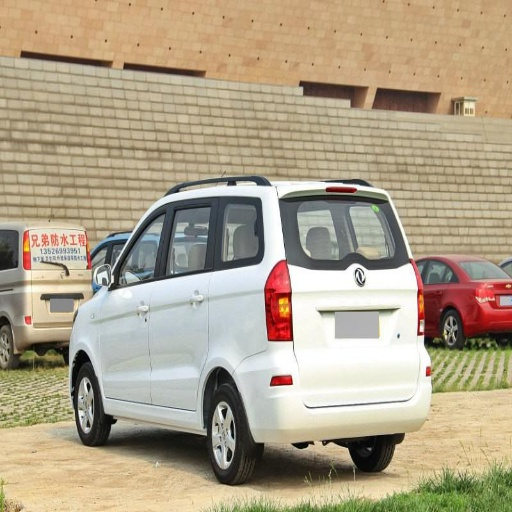back_bumper: (246, 342, 429, 443)
back_glass: (279, 195, 401, 267)
back_left_door: (151, 197, 237, 407)
trunk: (267, 263, 423, 404), (224, 321, 258, 390)
